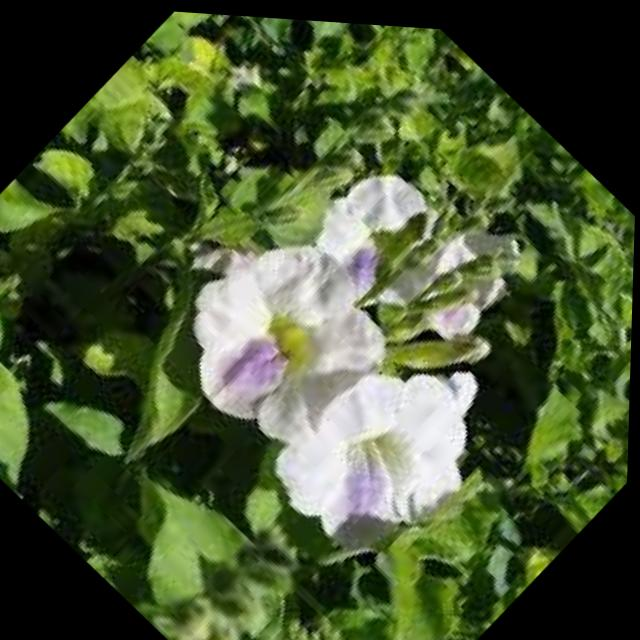Flower: (134, 172, 441, 490), (240, 290, 529, 592)
